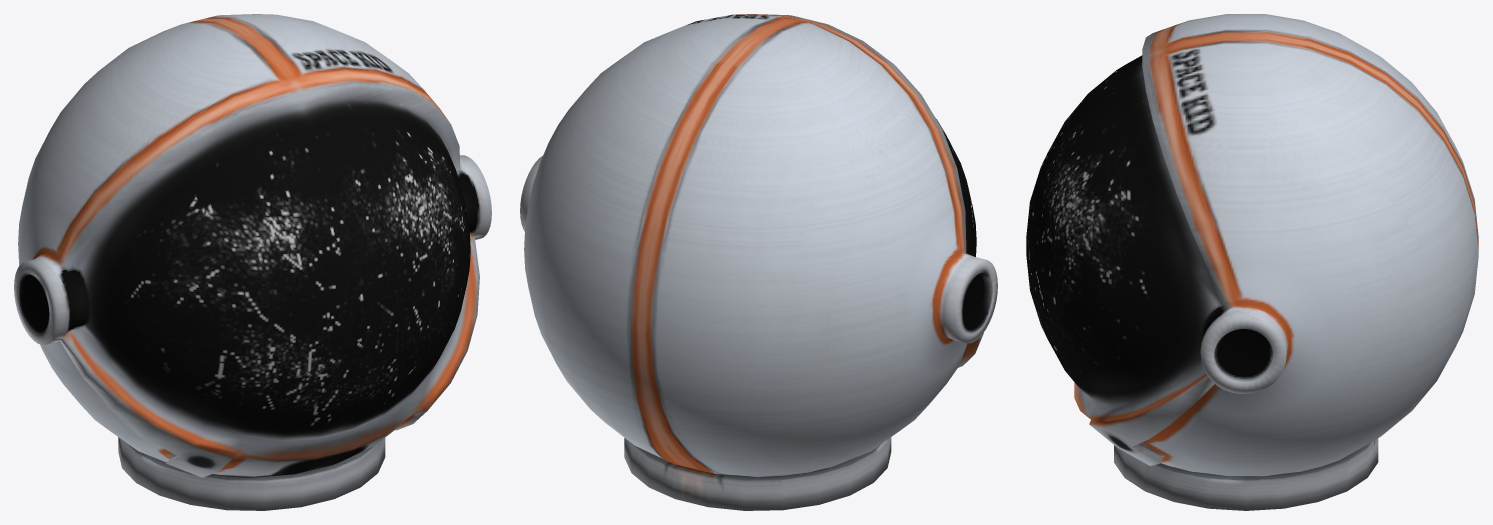
The model's file is SpaceKid.fbx.
3 renders of one model, left to right at view 1: azimuth 30°, elevation 25°; view 2: azimuth 150°, elevation 25°; view 3: azimuth 270°, elevation 25°, orthographic.
Visible parts, largest first — view 1: SpaceHead; view 2: SpaceHead; view 3: SpaceHead.
Boxes of the visible parts, x1=… form: SpaceHead: x1=14, y1=14, x2=491, y2=510; SpaceHead: x1=520, y1=14, x2=997, y2=510; SpaceHead: x1=1026, y1=14, x2=1478, y2=510.
Size of the model in its own units: 15.11 by 13.88 by 13.56.
1 material, 1 textured.
